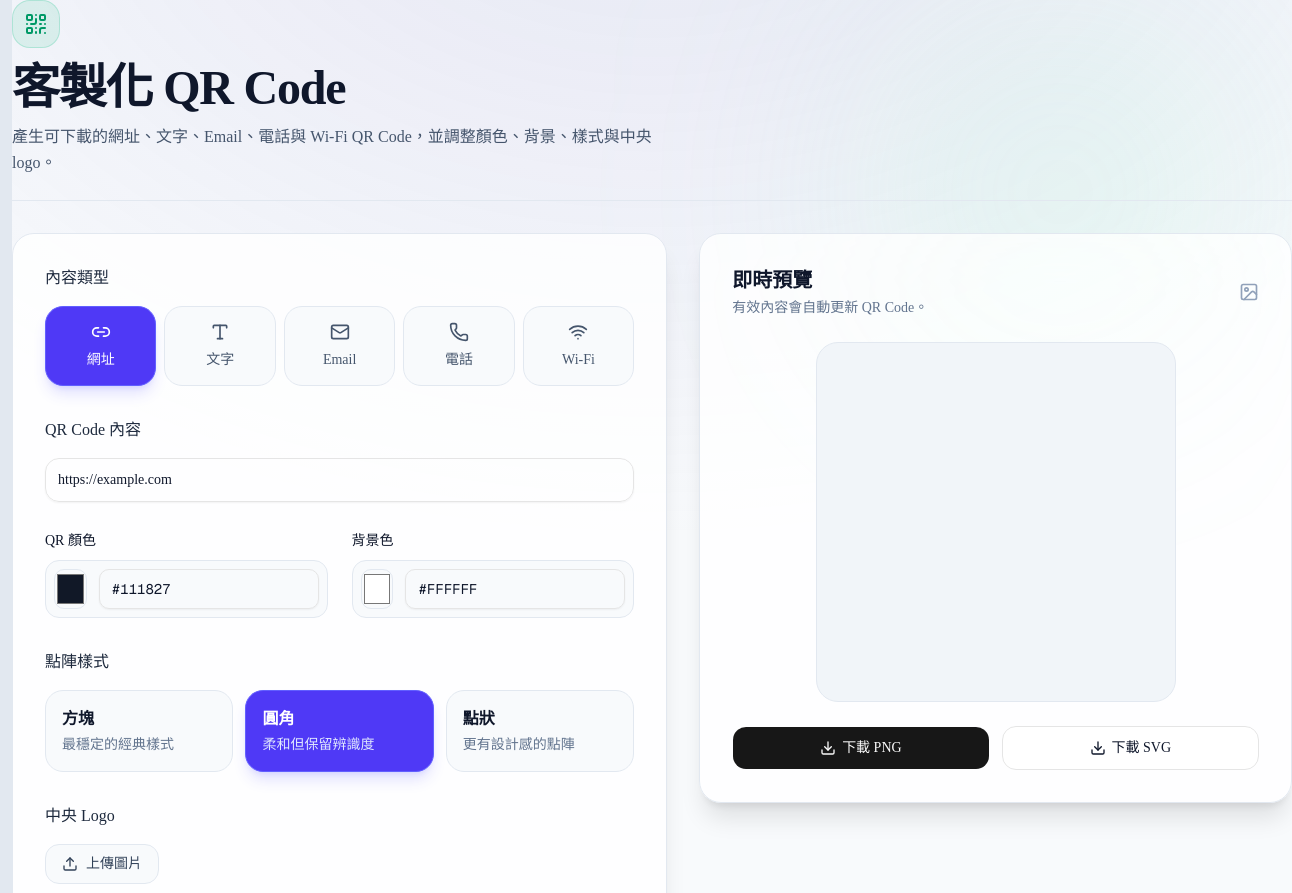
QrCodePage › disables downloads and shows an error for invalid input
Clear the field named "網址" at {"x": 340, "y": 480}, box [45,458,634,502]
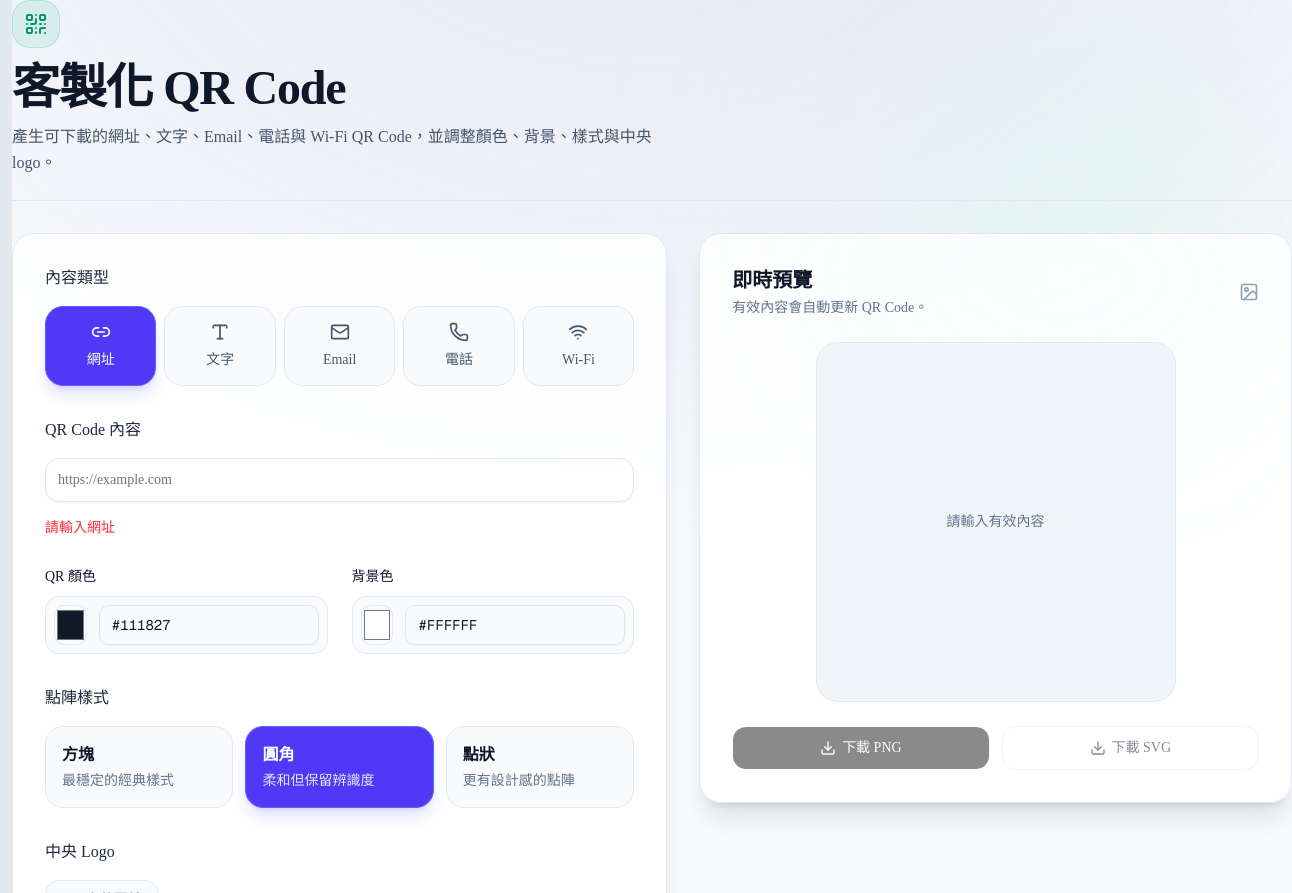
Result: the message reads "請輸入網址" at [45,520,115,535]
Result: the button "下載 PNG" is disabled at [732,726,990,770]
Result: the button "下載 SVG" is disabled at [1002,726,1259,770]
